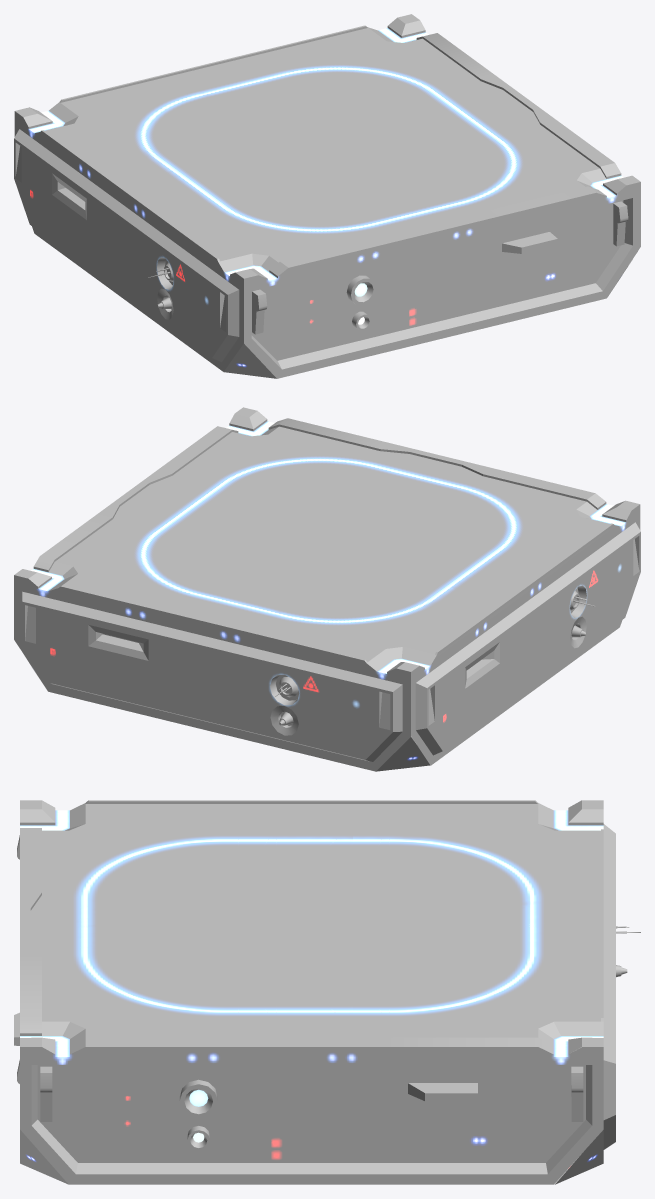
File: 4Way_Caps.fbx
3 views of the same model, one above another, from view 1: azimuth 30°, elevation 25°; view 2: azimuth 150°, elevation 25°; view 3: azimuth 270°, elevation 25° (orthographic). The views are drawn at different scales.
Parts seen in each view (by area): view 1: 4Way_Caps; view 2: 4Way_Caps; view 3: 4Way_Caps.
Boxes of the visible parts, x1,y1,x2,y2 form: 4Way_Caps: (14,14,640,378); 4Way_Caps: (14,407,640,771); 4Way_Caps: (14,800,640,1184).
Size of the model in its own units: 2.69 by 0.6517 by 2.69.
